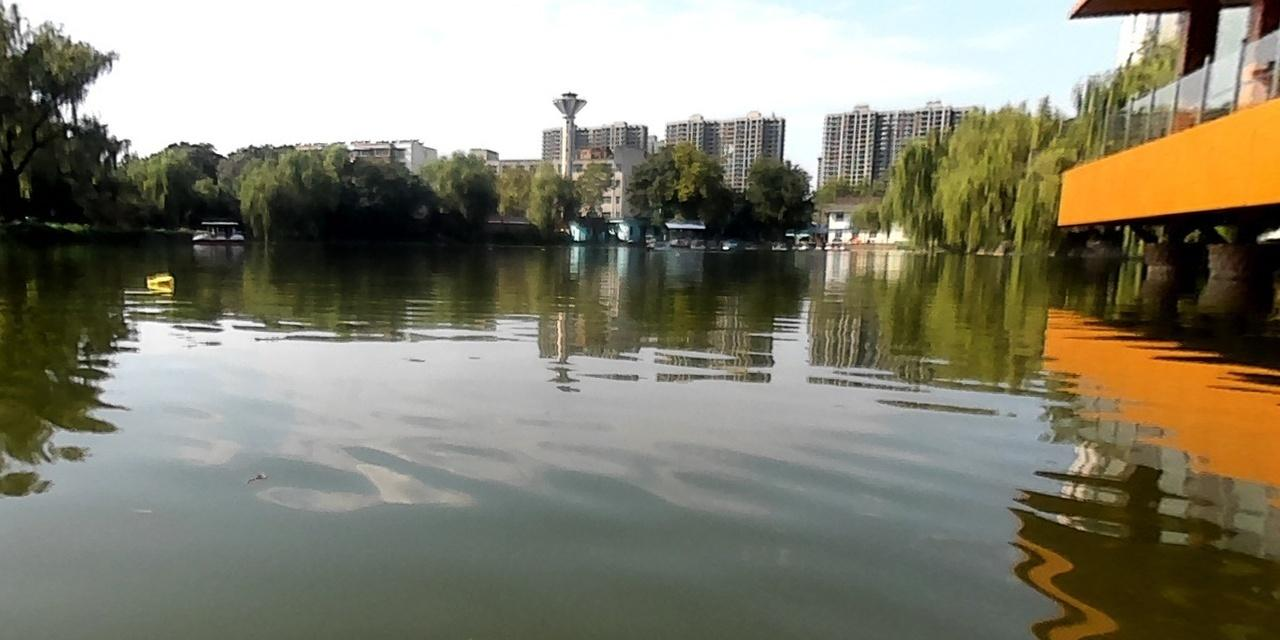bottle: (144, 274, 173, 287)
